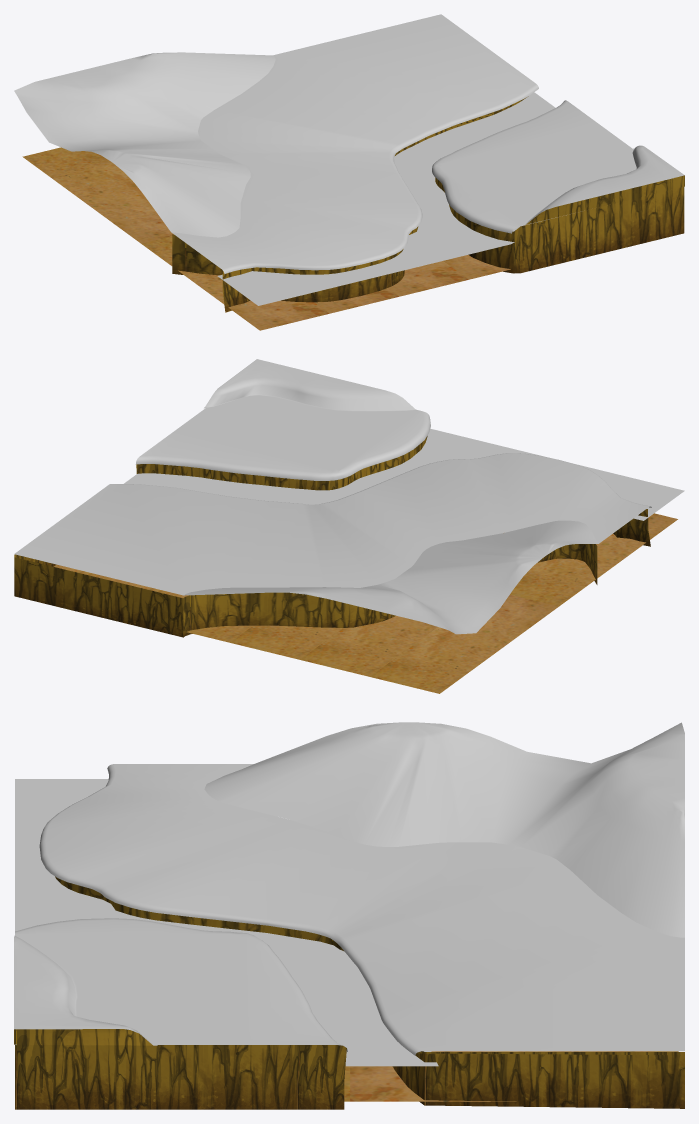
Rendered from terrain1_1fixedsoil (1).FBX.
3 renders of one model, top to bottom at view 1: azimuth 30°, elevation 25°; view 2: azimuth 150°, elevation 25°; view 3: azimuth 270°, elevation 25°, orthographic. The views are drawn at different scales.
Parts seen in each view (by area): view 1: Object043, Object031, Object032, Plane030, Plane031; view 2: Object043, Object031, Plane030, Object032, Plane031; view 3: Object043, Object032, Object031, Plane031, Plane030.
Boxes of the visible parts, bbox=[...] form: Object043: bbox=[14, 14, 538, 273]; Object031: bbox=[432, 100, 684, 233]; Object032: bbox=[172, 96, 684, 312]; Plane030: bbox=[22, 147, 510, 330]; Plane031: bbox=[217, 92, 555, 305]; Object043: bbox=[14, 453, 651, 634]; Object031: bbox=[135, 359, 430, 480]; Plane030: bbox=[54, 513, 677, 693]; Object032: bbox=[14, 436, 650, 637]; Plane031: bbox=[124, 428, 684, 520]; Object043: bbox=[39, 722, 684, 1055]; Object032: bbox=[14, 876, 684, 1109]; Object031: bbox=[14, 918, 347, 1051]; Plane031: bbox=[15, 779, 438, 1066]; Plane030: bbox=[344, 1051, 678, 1101].
Bounding box in the file's own units: 968 × 158 × 945.
